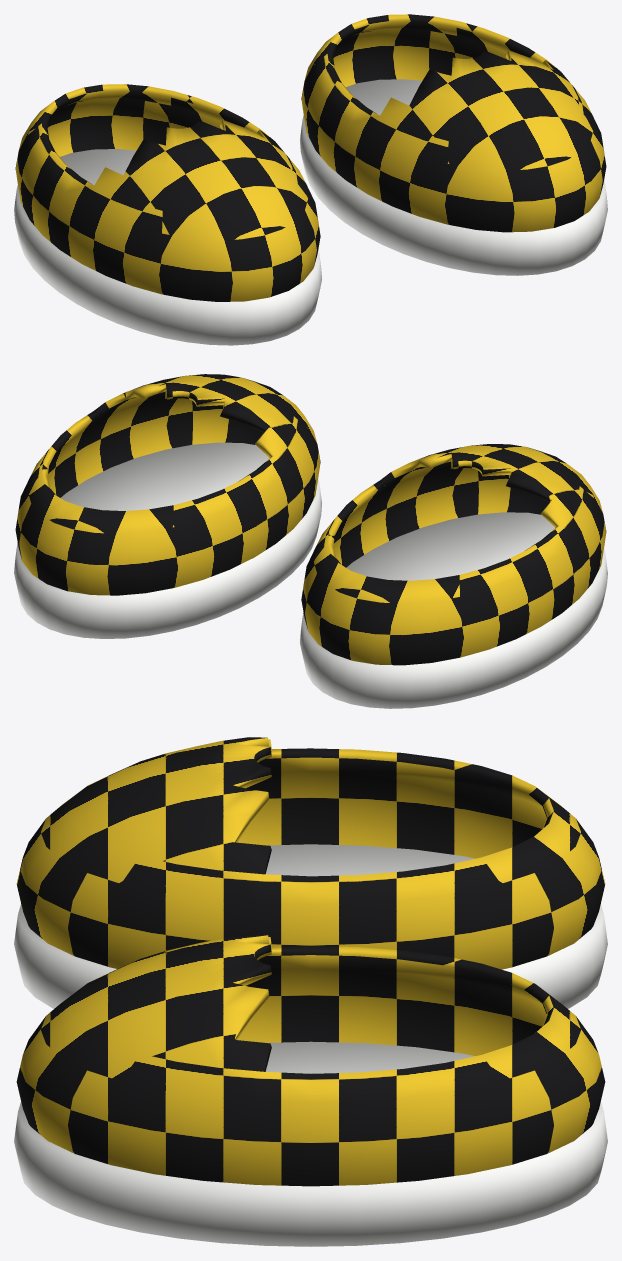
File: slipons3.fbx
3 views of the same model, one above another, from view 1: azimuth 30°, elevation 25°; view 2: azimuth 150°, elevation 25°; view 3: azimuth 270°, elevation 25° (orthographic). The views are drawn at different scales.
Visible parts, largest first — view 1: slipons3; view 2: slipons3; view 3: slipons3.
Boxes of the visible parts, x1,y1,x2,y2 form: slipons3: (14, 14, 607, 345); slipons3: (14, 374, 607, 708); slipons3: (14, 737, 607, 1246).
Size of the model in its own units: 0.634 by 0.181 by 0.45.
Materials: 2 (1 with a texture image).
